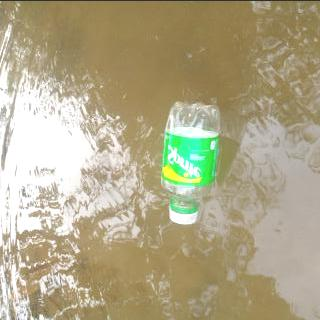bottle: (160, 99, 222, 224)
